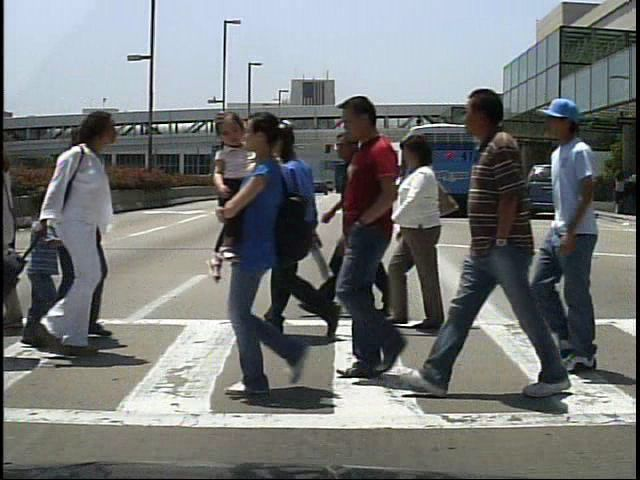person: (452, 84, 564, 416), (25, 113, 135, 362), (339, 96, 427, 380), (246, 121, 347, 347), (537, 101, 613, 377), (398, 137, 472, 337), (324, 130, 396, 322), (53, 113, 107, 360), (8, 196, 62, 352), (582, 168, 602, 218), (495, 165, 513, 217), (507, 166, 526, 215)
